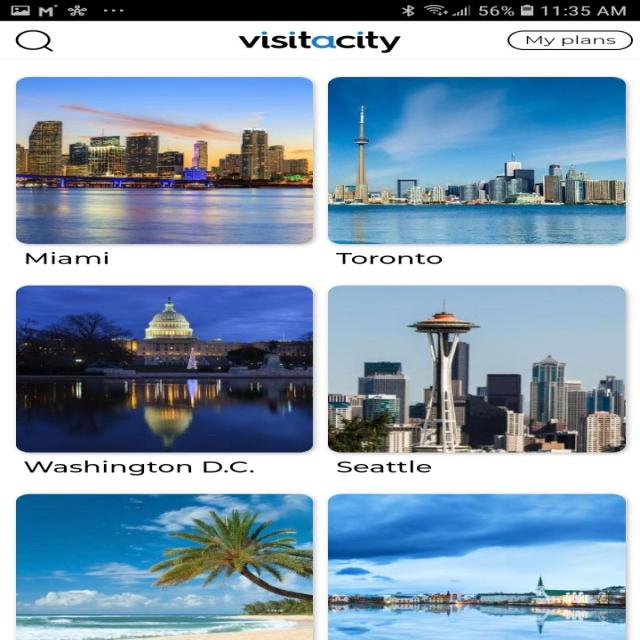Icon: (15, 29, 54, 52)
Image: (327, 285, 625, 452), (15, 285, 313, 452), (327, 77, 625, 244), (15, 77, 313, 244), (327, 494, 626, 640), (15, 494, 313, 640), (238, 31, 401, 53)
Text: (24, 460, 254, 475), (335, 252, 442, 264), (336, 460, 431, 472), (24, 252, 109, 264)
TextButton: (507, 30, 633, 50)
